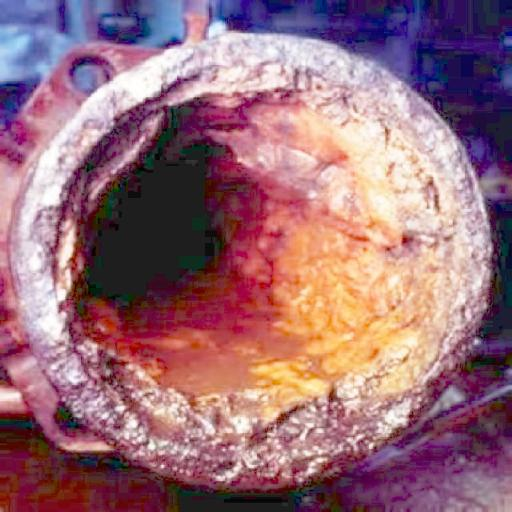corrosion: (2, 16, 490, 488)
